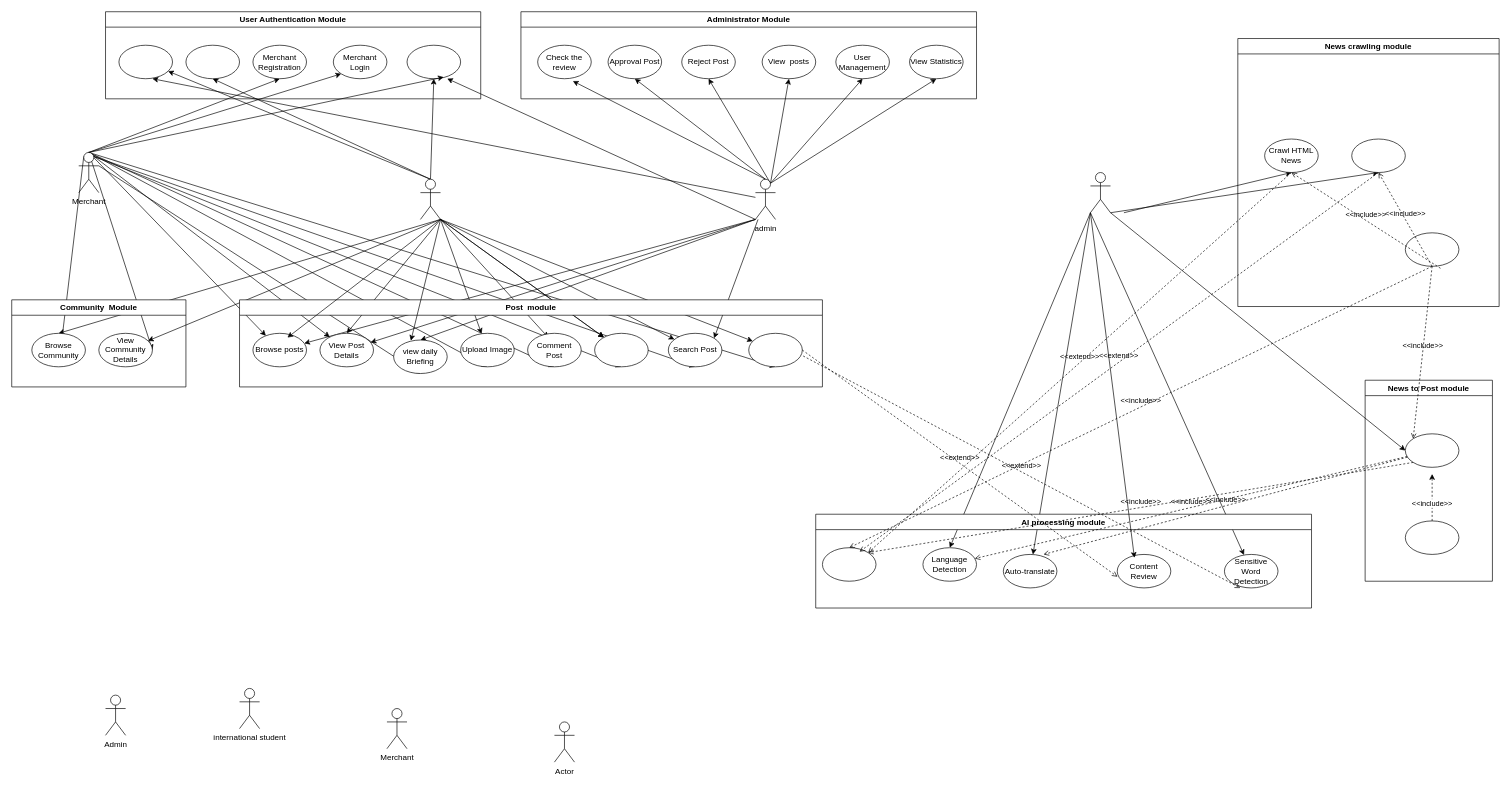
The diagram is 1511 pixels wide and 788 high, and some of its shapes have lost their labels. Each missing label, with the centre of its shape:
Batch Conversion: point (1432, 537)
Convert News to Post: point (1432, 450)
Crawl RSS News: point (1378, 155)
Generate AI Digest: point (849, 564)
Like Post: point (621, 350)
Post posts: point (775, 350)
System: point (1100, 192)
Timed crawling: point (1432, 249)
User: point (430, 199)
User Login: point (212, 62)
User Registration: point (145, 62)
View Personal Information: point (433, 62)
